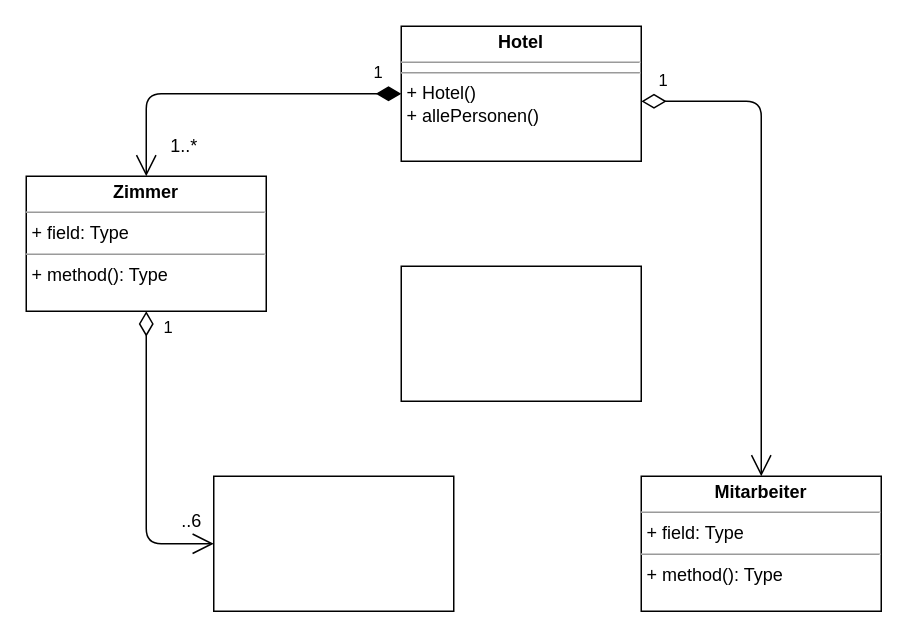
Image size: 908x638. Some labels were removed from this diagram. Each missing label, with the centre of its shape:
Gast + field: Type + method(): Type: the point at 333,543
Person - name: String + Person(name:String): the point at 520,333
